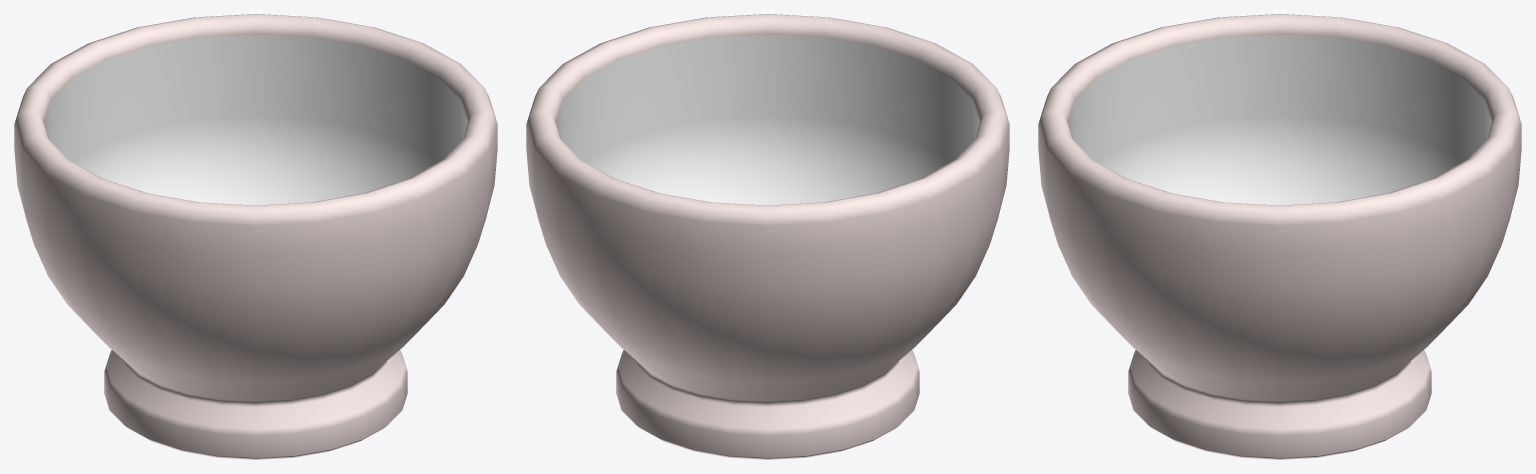
Rendered from Bowl.fbx.
3 views of the same model, side by side, from view 1: azimuth 30°, elevation 25°; view 2: azimuth 150°, elevation 25°; view 3: azimuth 270°, elevation 25° (orthographic).
Visible parts, largest first — view 1: Bowl; view 2: Bowl; view 3: Bowl.
Boxes of the visible parts, x1,y1,x2,y2 form: Bowl: (14,14,497,459); Bowl: (526,14,1009,459); Bowl: (1038,14,1521,459).
Size of the model in its own units: 30.8 by 20.23 by 30.8.
